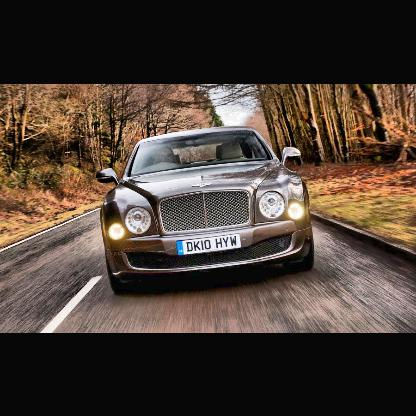Bentley Mulsanne Sedan 2011: (98, 126, 317, 297)
